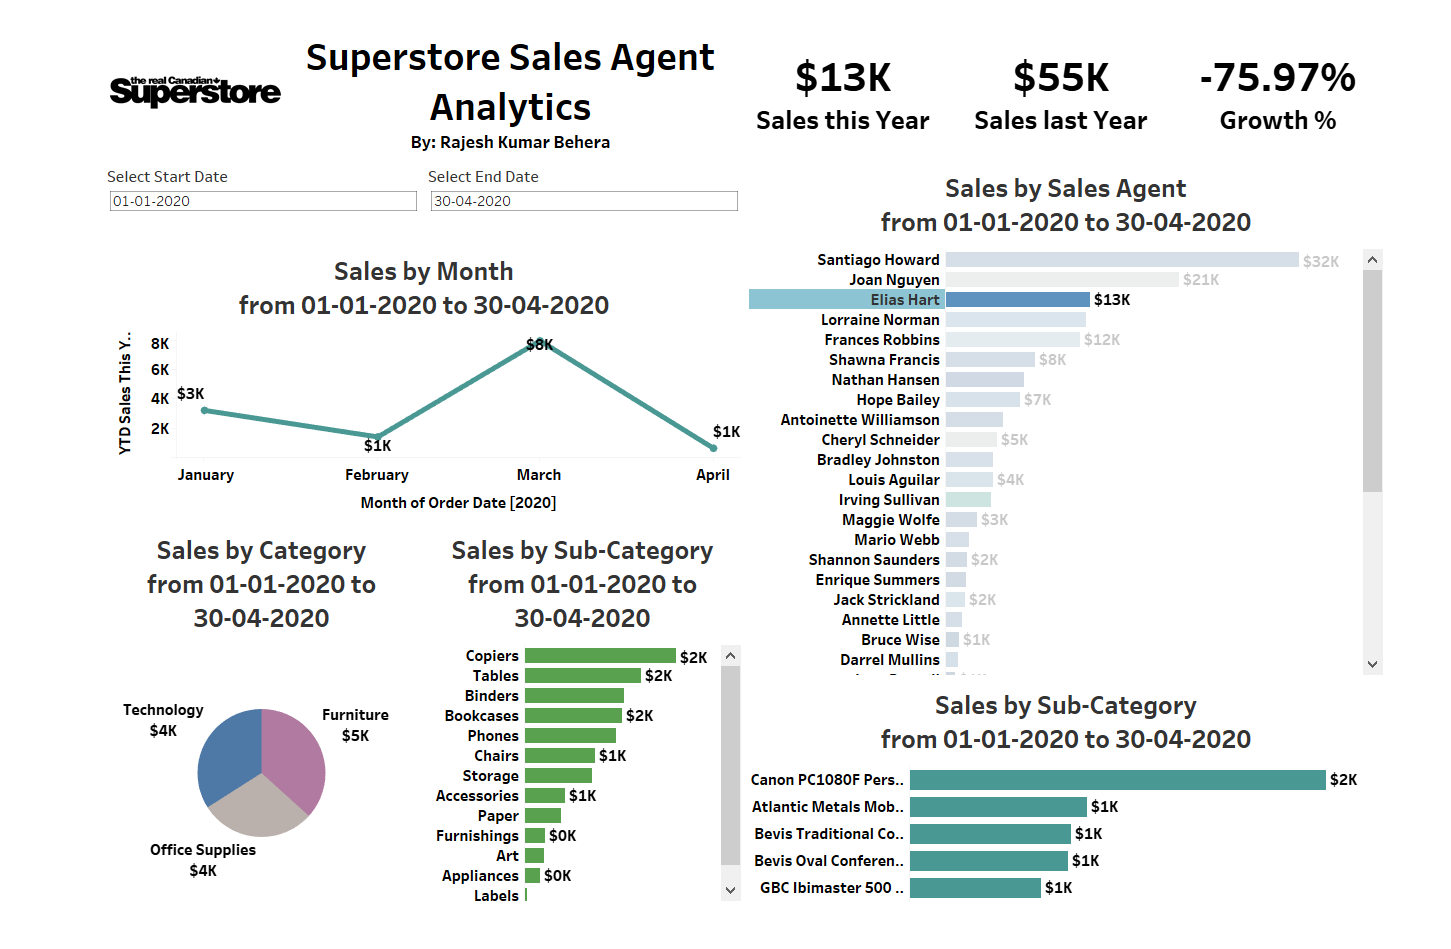

The dashboard page shown, as its layout file describes it:
{"tool":"tableau","page":{"name":"Dashboard 1","canvas":[1300,900],"ordinal":0},"visuals":[{"type":"image","param":"E:/Tableau/Super_store/superstorelogo.png","box":[8,8,184,141]},{"type":"text","box":[192,8,447,141]},{"type":"worksheet","title":"Sales this year","mark":"Automatic","box":[639,8,217.7,141]},{"type":"worksheet","title":"Sales last Year","mark":"Automatic","box":[856.6,8,217.7,141]},{"type":"worksheet","title":"Growth","mark":"Automatic","box":[1074.3,8,217.7,141]},{"type":"parameter","param":"[Parameters].[Parameter 1]","box":[8,149,321,83]},{"type":"parameter","param":"[Parameters].[Parameter 2]","box":[329,149,321,83]},{"type":"worksheet","title":"Sales by Sales Agent","mark":"Automatic","rows":["Calculation_609674842582380544"],"cols":["Calculation_446700830383255552"],"box":[650,149,642,517]},{"type":"worksheet","title":"Sales by Month","mark":"Automatic","rows":["Calculation_446700830383255552"],"cols":["Order Date"],"box":[8,232,642,279]},{"type":"worksheet","title":"Sales by Category","mark":"Pie","box":[8,511,317,381]},{"type":"worksheet","title":"Sales by Sub-Category","mark":"Automatic","rows":["Sub-Category"],"cols":["Calculation_446700830383255552"],"box":[325,511,325,381]},{"type":"worksheet","title":"Top 5 Products","mark":"Automatic","rows":["Product Name"],"cols":["Calculation_446700830383255552"],"box":[650,666,642,226]}]}

Visuals, with their boxes on the page's 1300x900 design canvas (x1, y1, x2, y2). These are canvas units, not pixel positions in the 1451x949 screenshot, which may show the page scaled, cropped or inside an application window:
image: pyautogui.locateOnScreen(8, 8, 192, 149)
text: pyautogui.locateOnScreen(192, 8, 639, 149)
"Sales this year" worksheet: pyautogui.locateOnScreen(639, 8, 857, 149)
"Sales last Year" worksheet: pyautogui.locateOnScreen(857, 8, 1074, 149)
"Growth" worksheet: pyautogui.locateOnScreen(1074, 8, 1292, 149)
parameter: pyautogui.locateOnScreen(8, 149, 329, 232)
parameter: pyautogui.locateOnScreen(329, 149, 650, 232)
"Sales by Sales Agent" worksheet: pyautogui.locateOnScreen(650, 149, 1292, 666)
"Sales by Month" worksheet: pyautogui.locateOnScreen(8, 232, 650, 511)
"Sales by Category" worksheet (Pie marks): pyautogui.locateOnScreen(8, 511, 325, 892)
"Sales by Sub-Category" worksheet: pyautogui.locateOnScreen(325, 511, 650, 892)
"Top 5 Products" worksheet: pyautogui.locateOnScreen(650, 666, 1292, 892)
